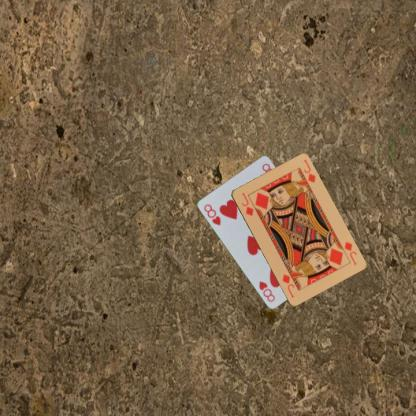8h: (201, 202, 222, 227)
Jd: (341, 239, 358, 266), (239, 190, 254, 217)
